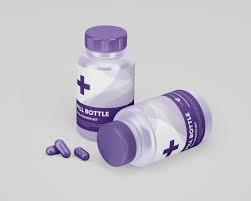jar: (89, 80, 219, 179), (75, 26, 135, 141)
